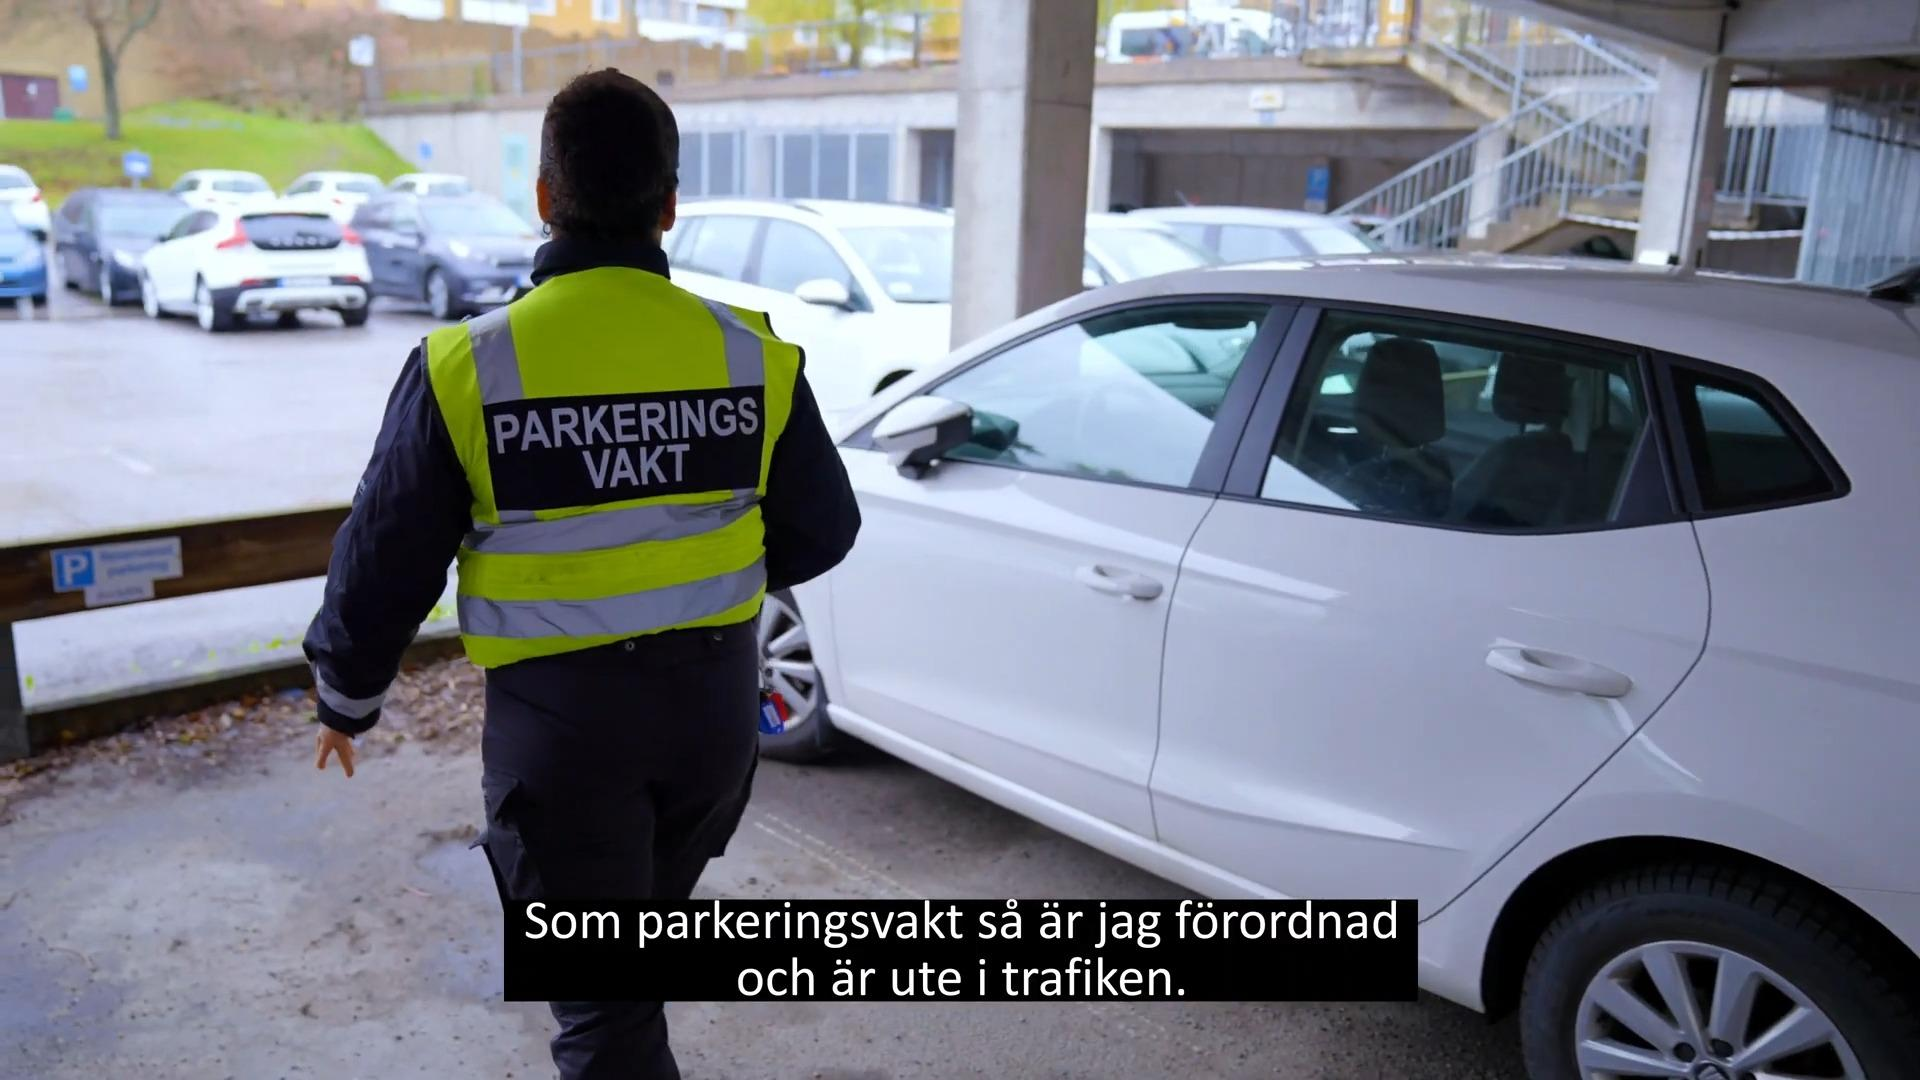parking-attendant: (303, 69, 860, 910)
